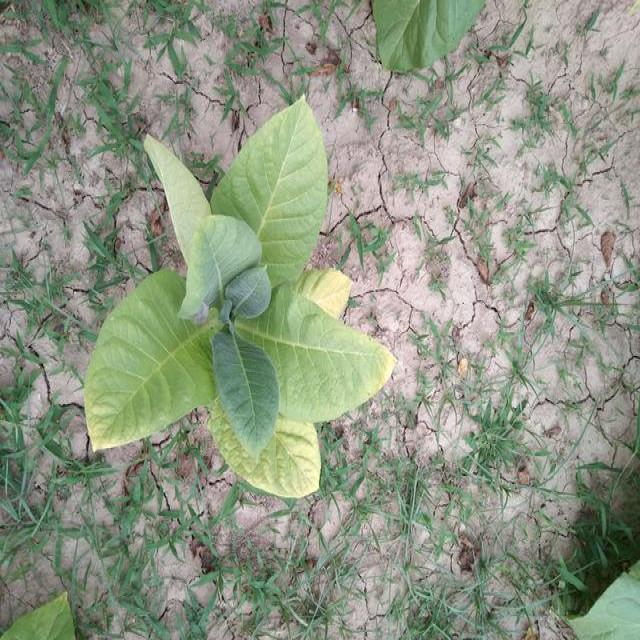crop: (79, 98, 400, 505)
